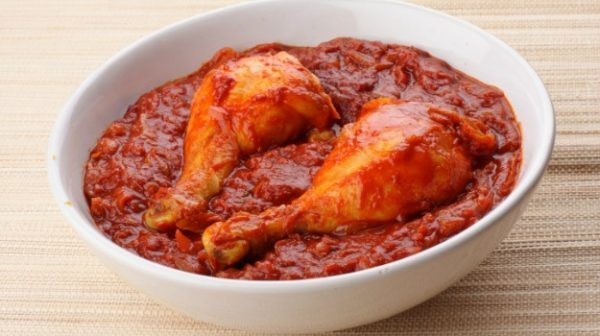chicken_curry: (156, 39, 497, 264)
